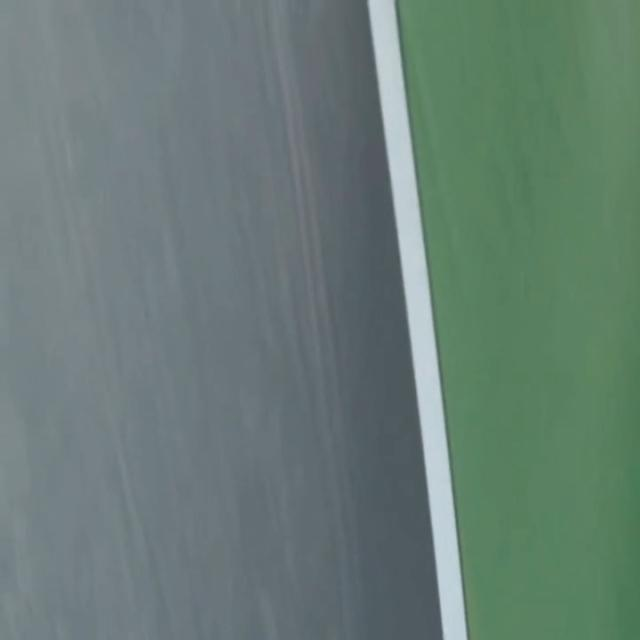right: (367, 0, 467, 639)
